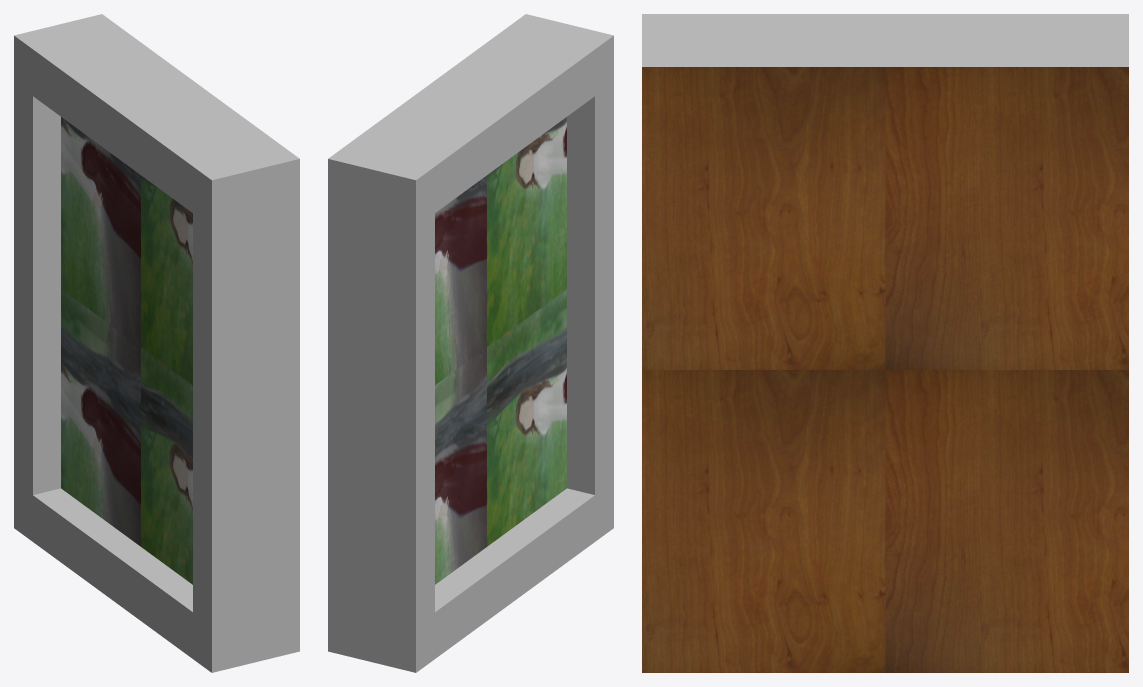
File: Photoframe.fbx
The picture shows the model from 3 angles, left to right: view 1: azimuth 30°, elevation 25°; view 2: azimuth 150°, elevation 25°; view 3: azimuth 270°, elevation 25°; orthographic projection. The views are drawn at different scales.
Parts seen in each view (by area): view 1: normalfloor-1 Mesh (1), singlePhoto Mesh (1); view 2: normalfloor-1 Mesh (1), singlePhoto Mesh (1); view 3: mtr_door Mesh (1), normalfloor-1 Mesh (1).
Boxes of the visible parts, x1,y1,x2,y2 form: normalfloor-1 Mesh (1): (14, 14, 299, 672); singlePhoto Mesh (1): (61, 117, 192, 584); normalfloor-1 Mesh (1): (328, 14, 613, 672); singlePhoto Mesh (1): (435, 117, 566, 584); mtr_door Mesh (1): (642, 67, 1128, 672); normalfloor-1 Mesh (1): (642, 14, 1128, 66).
Size of the model in its own units: 0.3744 by 2 by 1.46.
